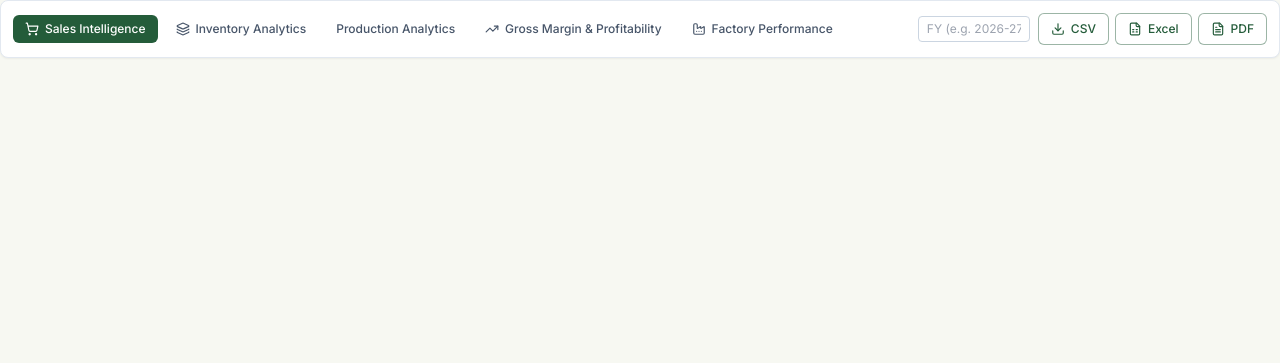
Test: Phase 4.3 Business Intelligence Frontend Suite › 3. BusinessIntelligencePage renders Production Analytics KPIs and Plan vs Actual table
Click the button "Production Analytics". click: [396, 29]
box: [324,15,467,43]
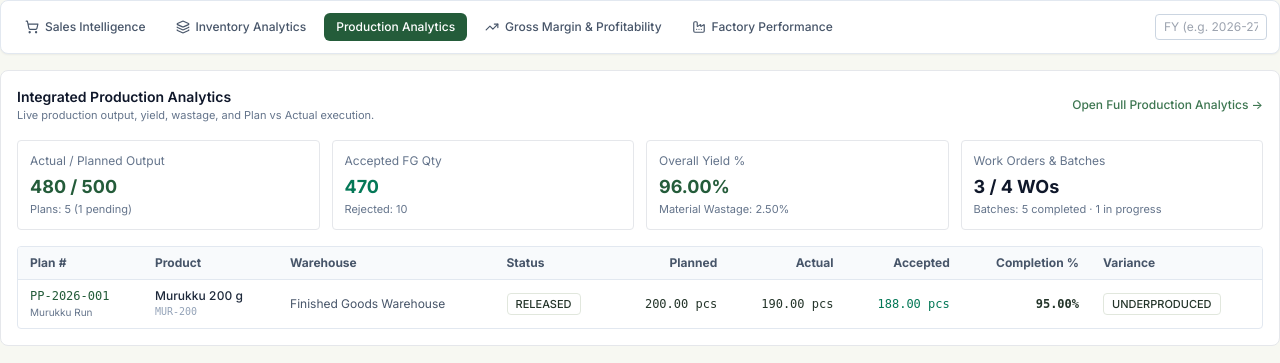
Expected: the text "96.00%" is shown, [659,176,730,196]
Expected: the text "PP-2026-001" is shown, [30,289,110,303]
Expected: the text "Murukku 200 g" is shown, [155,288,243,303]
